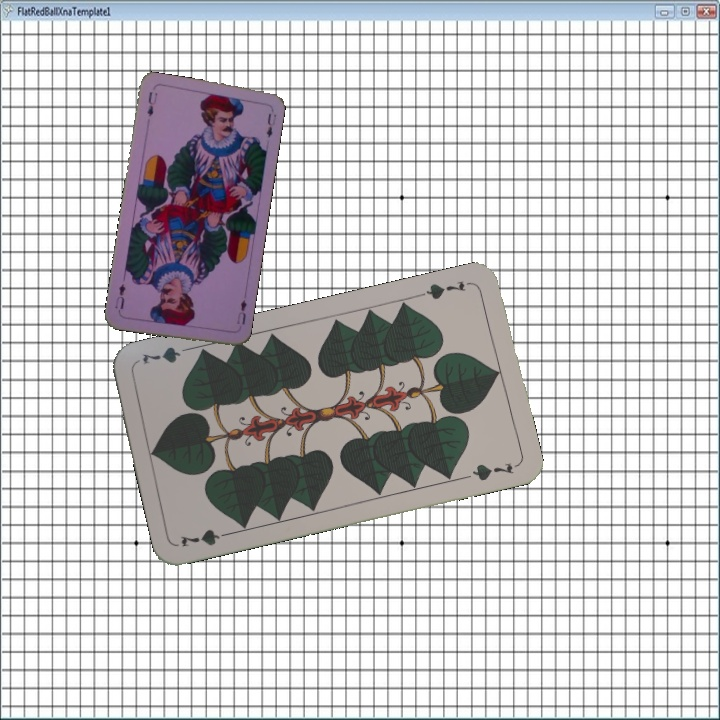EU: (143, 88, 160, 120), (233, 296, 249, 327)
G7: (416, 276, 475, 302), (176, 525, 236, 550)
